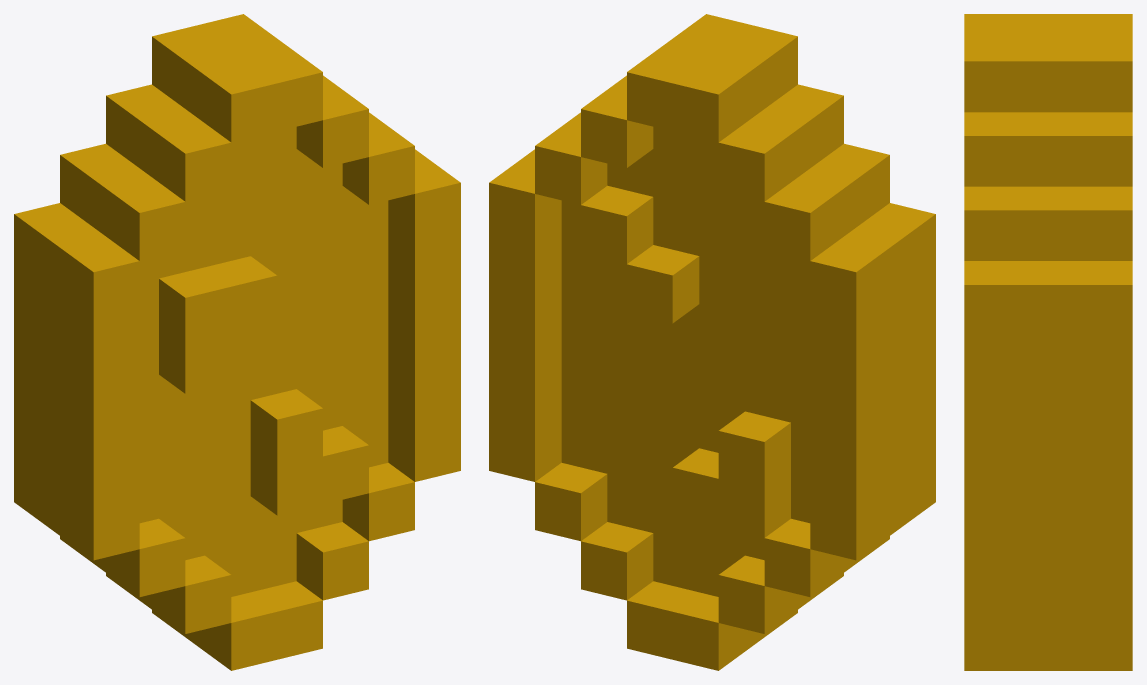
File: Coin.glb
3 renders of one model, left to right at view 1: azimuth 30°, elevation 25°; view 2: azimuth 150°, elevation 25°; view 3: azimuth 270°, elevation 25°, orthographic. The views are drawn at different scales.
Parts seen in each view (by area): view 1: coin; view 2: coin; view 3: coin.
Boxes of the visible parts, x1,y1,x2,y2 form: coin: [14, 14, 460, 670]; coin: [489, 14, 935, 670]; coin: [964, 14, 1132, 670].
Bounding box in the file's own units: 0.8 × 1.2 × 0.3.
